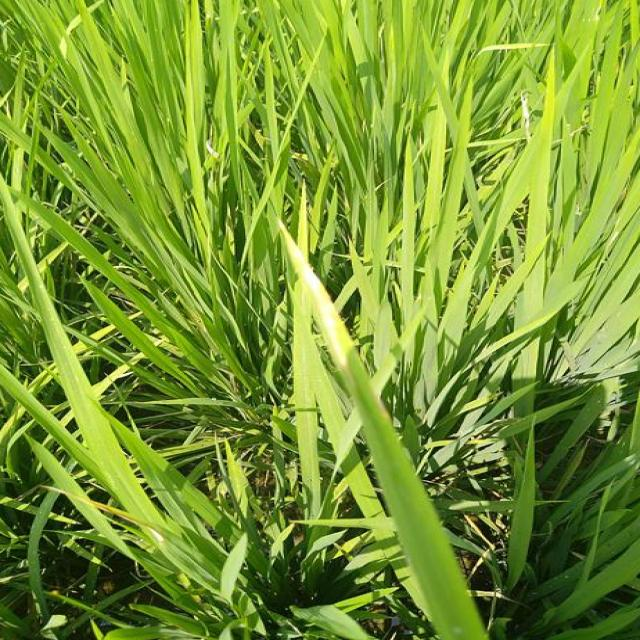Leaf Blight: (281, 225, 353, 399)
